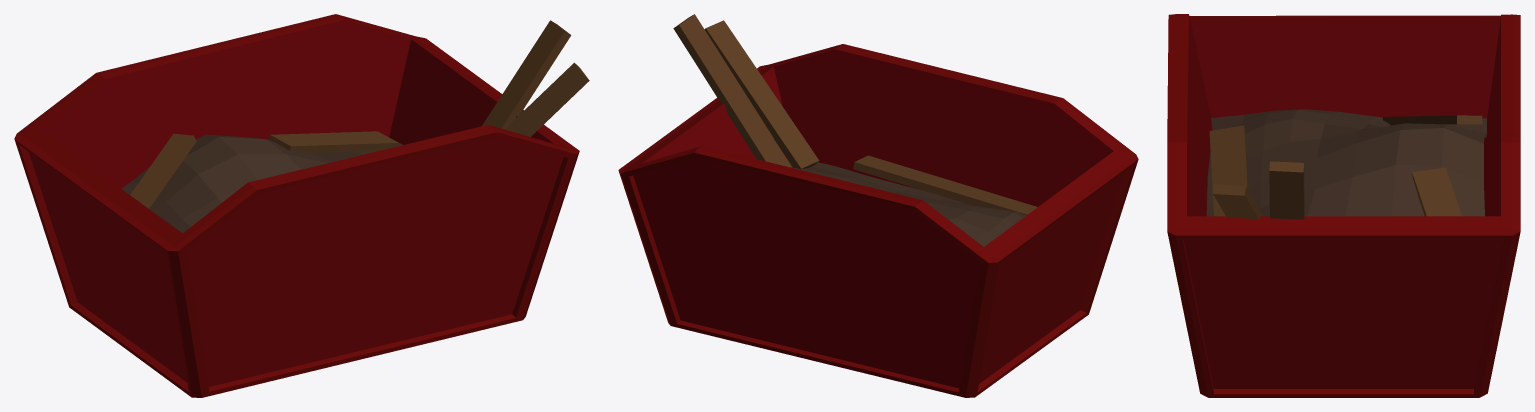
Rendered from SkipWood.fbx.
3 renders of one model, left to right at view 1: azimuth 30°, elevation 25°; view 2: azimuth 150°, elevation 25°; view 3: azimuth 270°, elevation 25°, orthographic. The views are drawn at different scales.
Parts seen in each view (by area): view 1: Cube; view 2: Cube; view 3: Cube.
Part boxes in pixels (box(x1,y1,x2,y2)): Cube: box(14, 14, 589, 397); Cube: box(618, 14, 1138, 397); Cube: box(1167, 14, 1520, 397).
Size of the model in its own units: 672 by 357 by 420.
